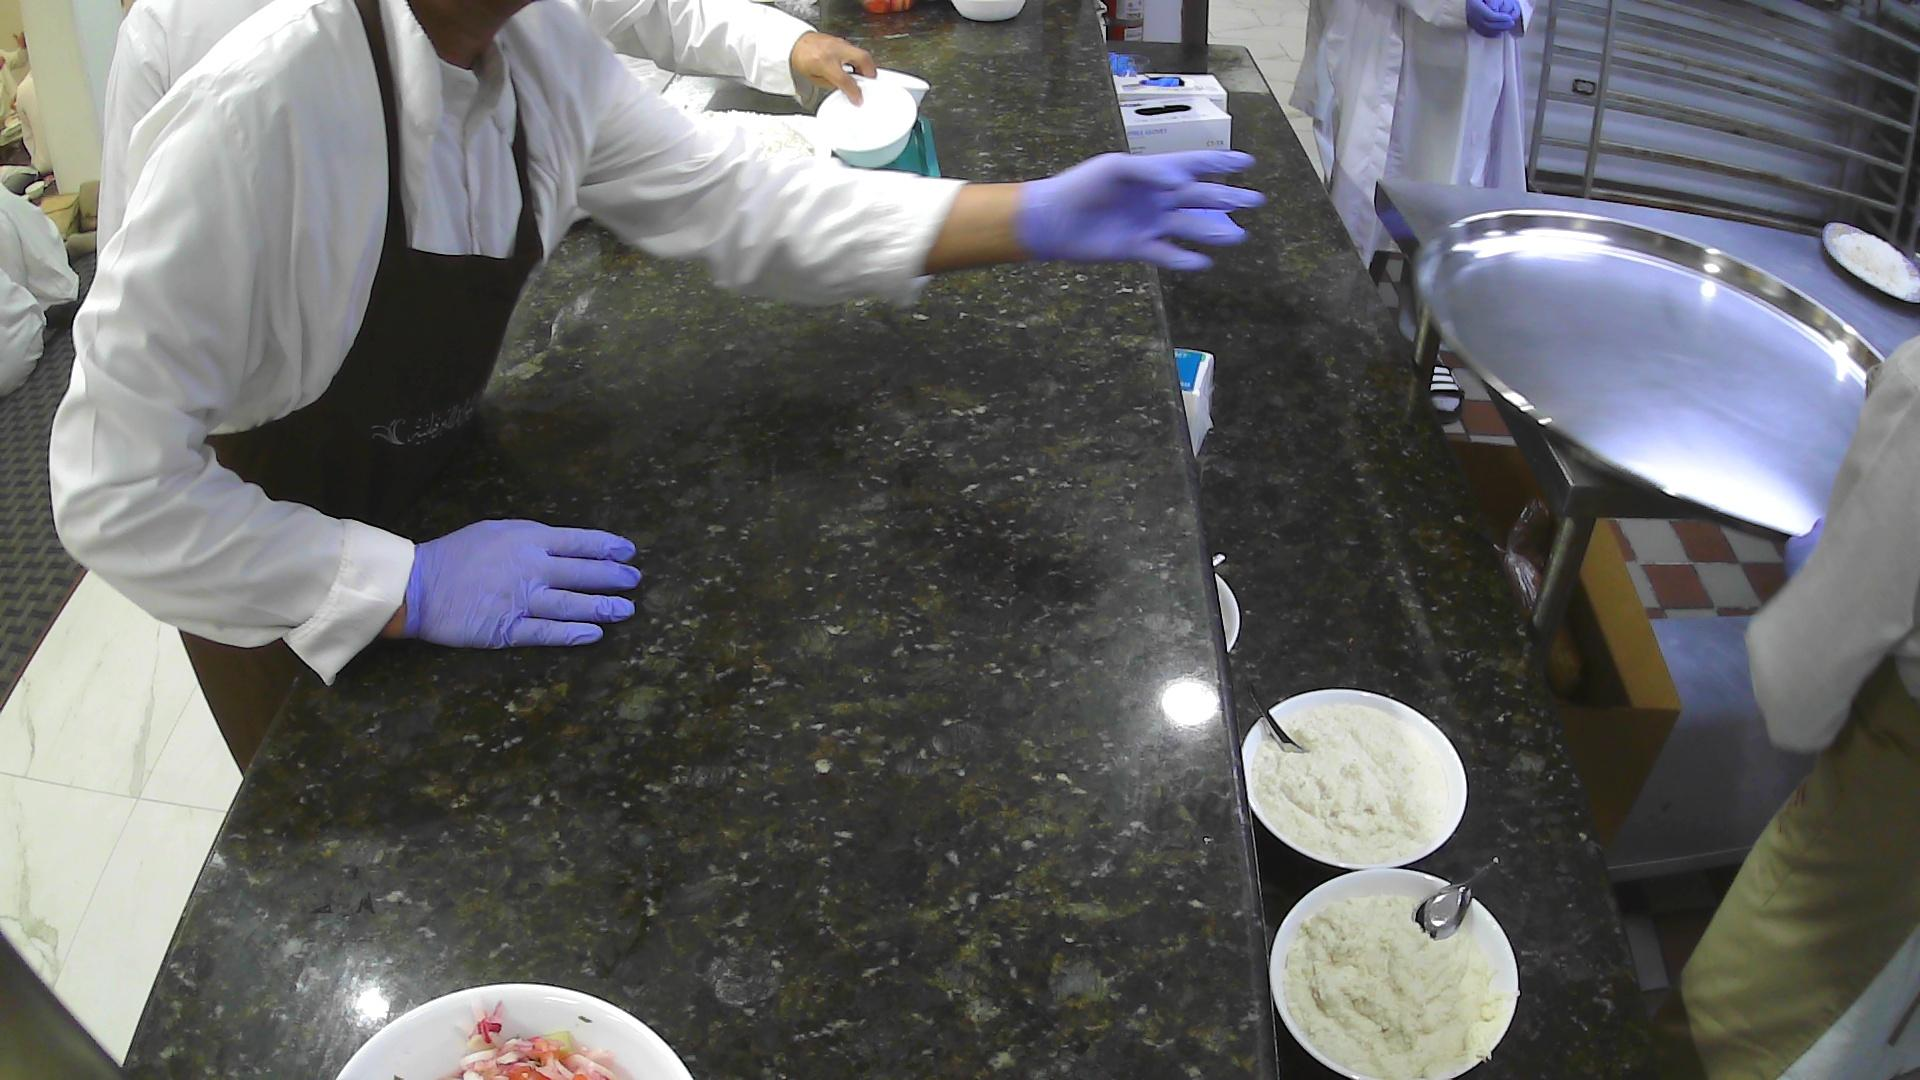thaal: (1415, 206, 1890, 547)
